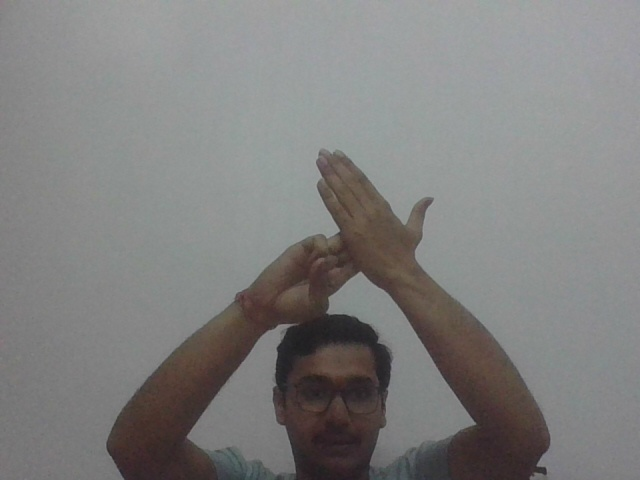M: (271, 146, 434, 315)
